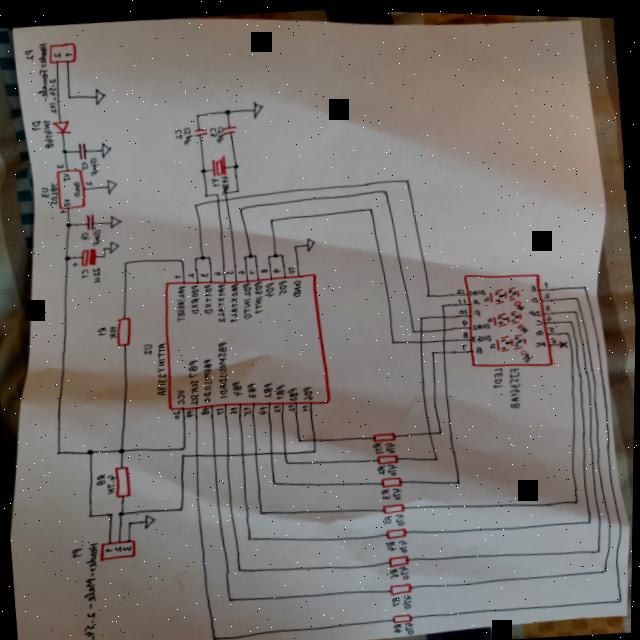capacitor: (71, 246, 99, 266), (85, 212, 97, 230), (77, 140, 88, 159), (222, 123, 237, 133), (193, 125, 208, 134)
crossover: (427, 426, 434, 433), (225, 449, 231, 456), (441, 310, 448, 316), (240, 449, 246, 455), (441, 333, 447, 339), (441, 323, 447, 329), (269, 447, 275, 453), (418, 335, 424, 341), (418, 325, 424, 330), (213, 451, 219, 456), (253, 449, 259, 454), (283, 447, 289, 452), (442, 346, 448, 351), (312, 435, 318, 439), (195, 451, 200, 455), (216, 196, 220, 200), (225, 195, 229, 199)
diode: (51, 117, 72, 134)
ground: (251, 96, 265, 117), (93, 85, 108, 104), (143, 510, 158, 528), (100, 140, 113, 157), (305, 233, 318, 249), (106, 176, 118, 193), (109, 213, 123, 227), (108, 239, 121, 252)
junction: (116, 444, 127, 454), (86, 446, 97, 455), (60, 145, 69, 154), (63, 252, 73, 260), (122, 257, 131, 265), (595, 542, 603, 550), (246, 532, 254, 540), (118, 508, 127, 515), (224, 105, 232, 112), (200, 165, 208, 172), (178, 503, 186, 510), (617, 592, 625, 599), (425, 288, 433, 295), (212, 632, 220, 639), (237, 563, 245, 570), (389, 335, 397, 342), (228, 593, 236, 600), (180, 450, 188, 457), (180, 442, 188, 449), (601, 562, 609, 569), (572, 493, 580, 500), (417, 311, 425, 318), (439, 298, 447, 305), (296, 434, 304, 441), (233, 160, 240, 167), (66, 92, 73, 99), (56, 447, 63, 454), (88, 510, 95, 517), (259, 506, 266, 513), (586, 513, 593, 520), (433, 452, 440, 458), (456, 475, 462, 481), (66, 220, 72, 226), (194, 111, 200, 117), (269, 214, 275, 220), (438, 425, 444, 431), (292, 240, 298, 246), (109, 509, 115, 515), (273, 250, 279, 256), (273, 478, 279, 483), (430, 346, 436, 351), (193, 200, 199, 205), (179, 256, 185, 261), (564, 326, 570, 331), (128, 518, 134, 523), (313, 445, 318, 450), (405, 175, 410, 179), (583, 280, 588, 284), (368, 204, 373, 208), (286, 457, 291, 461), (411, 326, 416, 330), (204, 191, 209, 195), (383, 186, 388, 190), (201, 253, 206, 257), (248, 251, 253, 255), (254, 250, 258, 255), (239, 205, 243, 209), (235, 186, 239, 190), (574, 305, 578, 309), (569, 315, 573, 319), (281, 250, 285, 254), (103, 253, 107, 257), (223, 189, 227, 192), (215, 191, 219, 194), (194, 255, 198, 258), (208, 253, 212, 256), (243, 253, 247, 256), (267, 252, 271, 255), (103, 245, 107, 248), (574, 292, 579, 294)
resistor: (114, 463, 133, 496), (115, 313, 134, 345), (390, 577, 415, 592), (382, 498, 406, 511), (380, 472, 404, 485), (385, 523, 409, 536), (376, 449, 400, 462), (388, 551, 411, 564), (372, 428, 398, 439), (391, 609, 415, 620)
terminal: (99, 535, 139, 560), (47, 40, 77, 63)
text: (76, 538, 111, 640), (214, 339, 234, 400), (32, 41, 52, 100), (152, 340, 172, 395), (505, 362, 526, 406), (199, 356, 218, 401), (185, 357, 202, 403), (226, 279, 243, 321), (215, 281, 230, 320), (174, 282, 189, 319), (241, 279, 255, 317), (46, 76, 59, 113), (252, 277, 266, 311), (201, 281, 215, 312), (189, 281, 202, 312), (42, 118, 55, 147), (492, 362, 506, 385), (263, 277, 279, 297), (48, 180, 60, 205), (106, 472, 120, 493), (173, 385, 188, 404), (274, 378, 287, 398), (231, 377, 245, 395), (246, 378, 259, 397), (88, 155, 100, 175), (302, 382, 316, 399), (287, 383, 301, 400), (90, 227, 103, 245), (262, 378, 274, 397), (182, 124, 194, 143), (472, 329, 493, 339), (471, 317, 492, 327), (220, 172, 231, 191), (292, 276, 303, 294), (278, 276, 289, 293), (141, 340, 155, 353), (399, 561, 411, 576), (373, 438, 386, 451), (95, 471, 108, 484), (384, 438, 398, 450), (398, 535, 409, 550), (404, 590, 415, 605), (470, 283, 488, 292), (216, 123, 225, 141), (200, 402, 213, 414), (214, 402, 227, 414), (392, 483, 403, 497), (396, 509, 407, 523), (405, 617, 416, 631), (108, 323, 119, 337), (72, 179, 81, 196), (93, 265, 102, 282), (387, 459, 398, 472), (381, 484, 392, 497), (40, 184, 51, 197), (23, 48, 34, 61), (72, 545, 85, 556), (387, 536, 399, 547), (389, 564, 401, 575), (31, 118, 42, 130), (457, 292, 470, 302), (172, 407, 183, 418), (186, 405, 197, 416), (258, 402, 269, 413), (384, 511, 395, 522), (392, 592, 403, 603), (243, 402, 253, 414), (377, 460, 387, 472), (528, 305, 542, 313), (210, 175, 221, 185), (394, 619, 405, 629), (62, 170, 72, 181), (80, 266, 90, 277), (98, 324, 109, 334), (174, 126, 183, 138), (229, 403, 240, 412), (209, 124, 218, 135), (81, 159, 90, 170), (80, 230, 91, 239), (534, 336, 547, 343), (287, 263, 297, 272), (273, 401, 283, 410), (472, 305, 482, 314), (199, 268, 210, 276), (457, 303, 468, 311), (455, 284, 466, 292), (475, 341, 484, 350), (63, 197, 72, 206), (115, 543, 124, 552), (301, 400, 310, 408), (472, 293, 481, 301), (528, 280, 537, 288), (547, 321, 556, 329), (549, 331, 558, 339), (123, 543, 133, 550), (57, 160, 65, 168), (461, 315, 469, 323), (545, 309, 553, 317), (535, 324, 544, 331), (188, 269, 195, 277), (542, 288, 550, 295), (53, 50, 61, 57), (226, 267, 234, 274), (288, 401, 295, 409), (530, 292, 538, 299), (535, 314, 543, 321), (273, 264, 282, 270), (105, 545, 115, 550), (214, 268, 224, 273), (461, 339, 468, 346), (463, 327, 470, 334), (543, 277, 550, 284), (545, 300, 552, 307), (85, 178, 92, 185), (63, 50, 72, 55), (174, 272, 182, 277), (237, 267, 245, 272), (260, 265, 268, 270), (60, 207, 68, 212), (249, 267, 256, 272)
